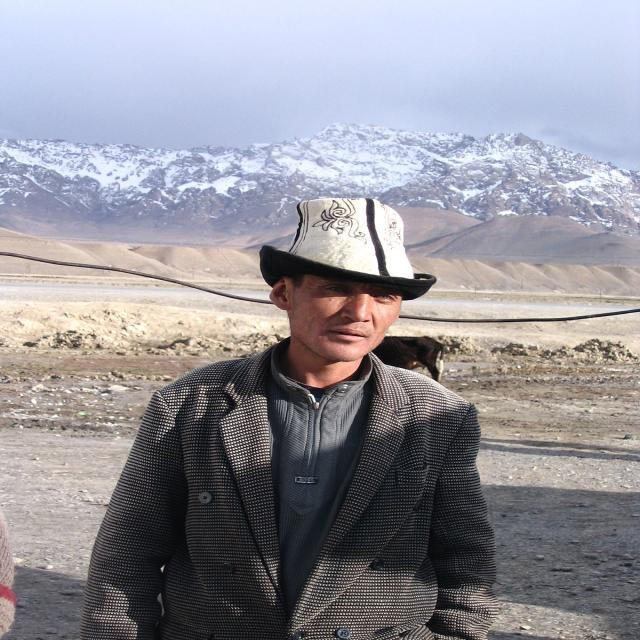hat: (257, 200, 436, 300)
